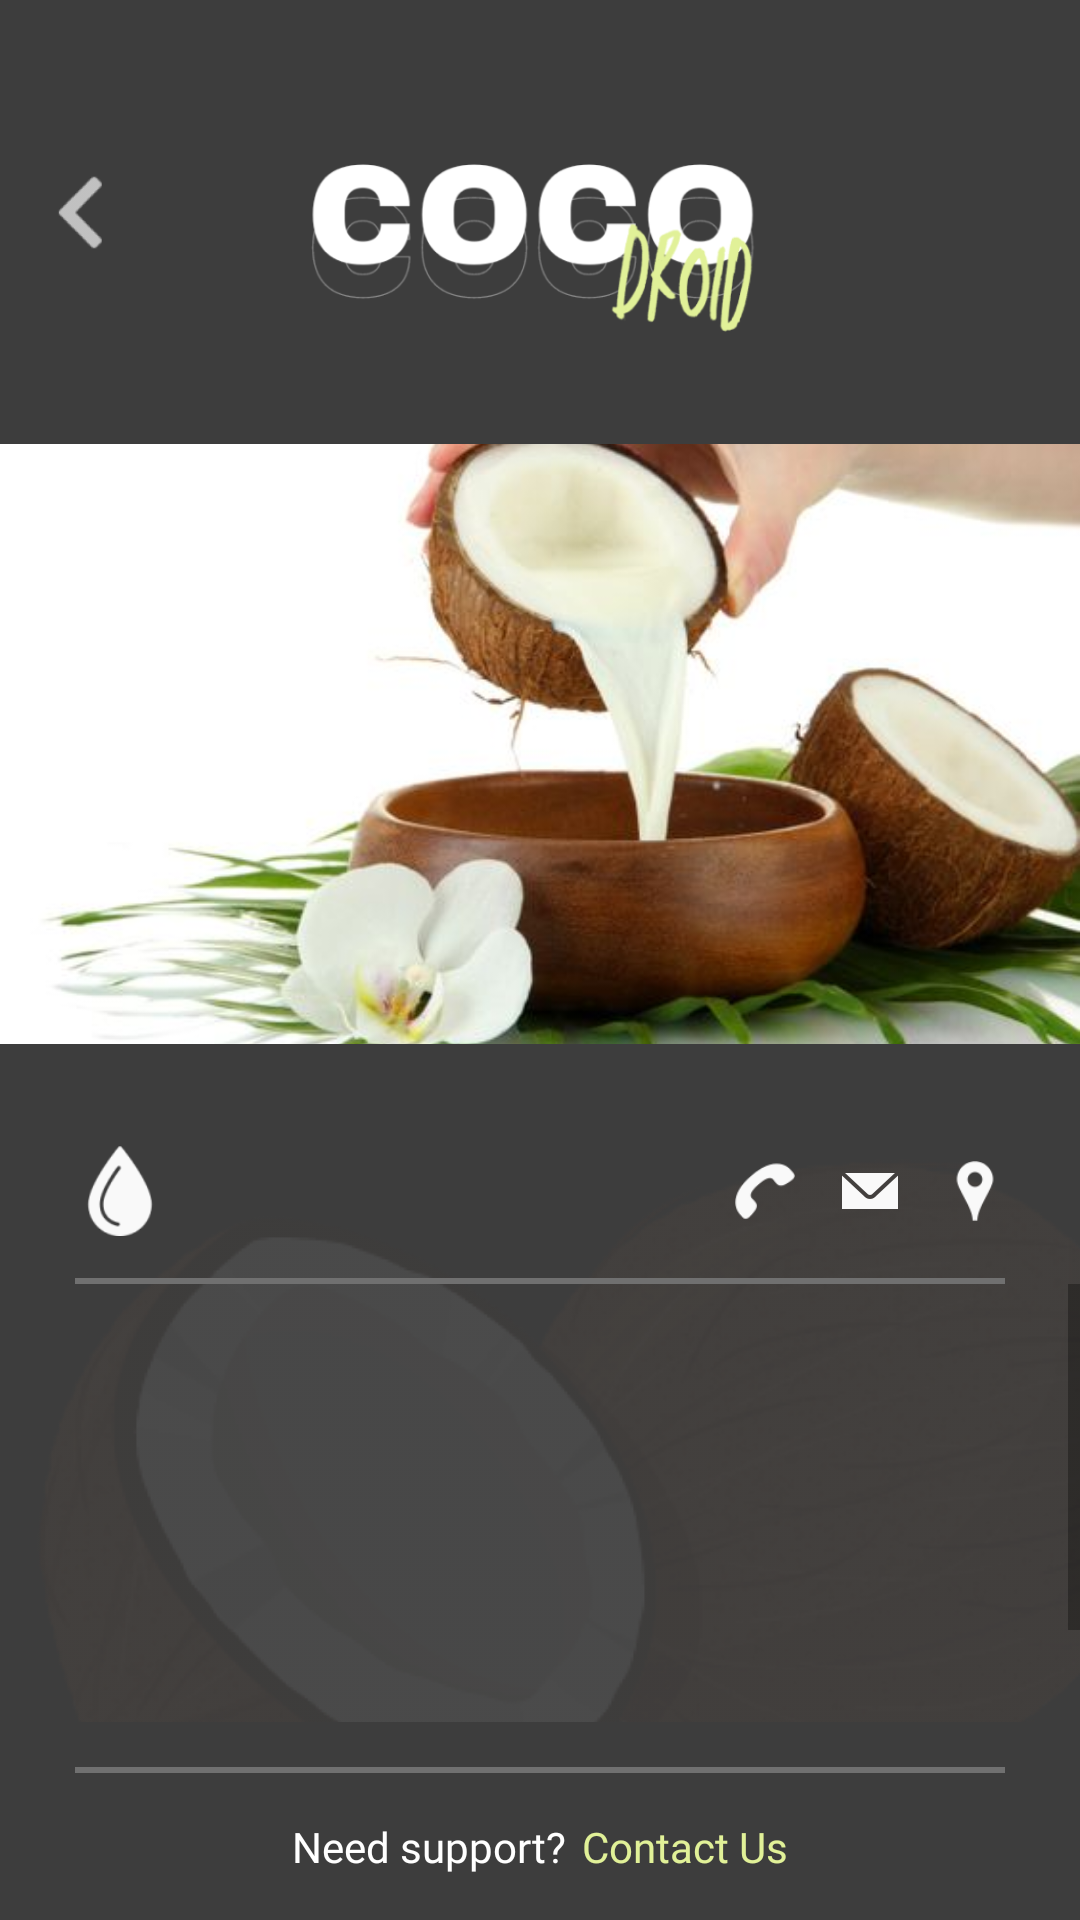

Locate icon controls on the screen. Image size 1080*1920, boxes as [x1, y1, x2, y2].
back: [59, 177, 102, 248]
call: [735, 1163, 795, 1219]
location: [956, 1161, 994, 1221]
mail: [842, 1173, 898, 1209]
